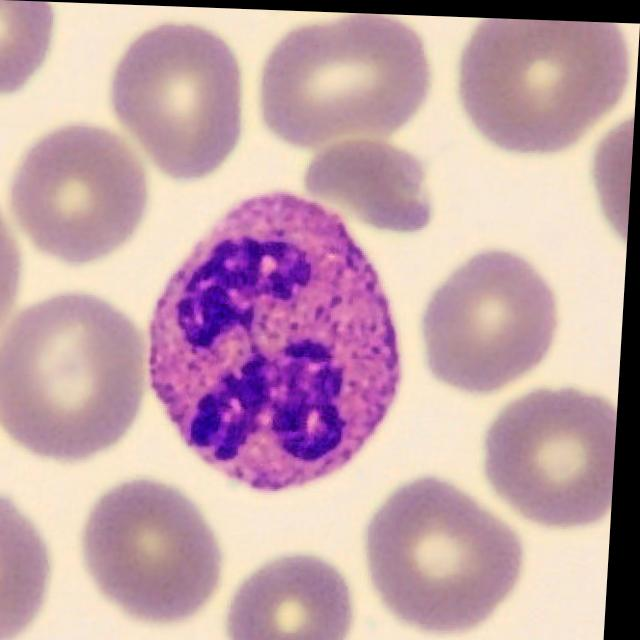Neutrofilo segmentado: (152, 187, 406, 489)
